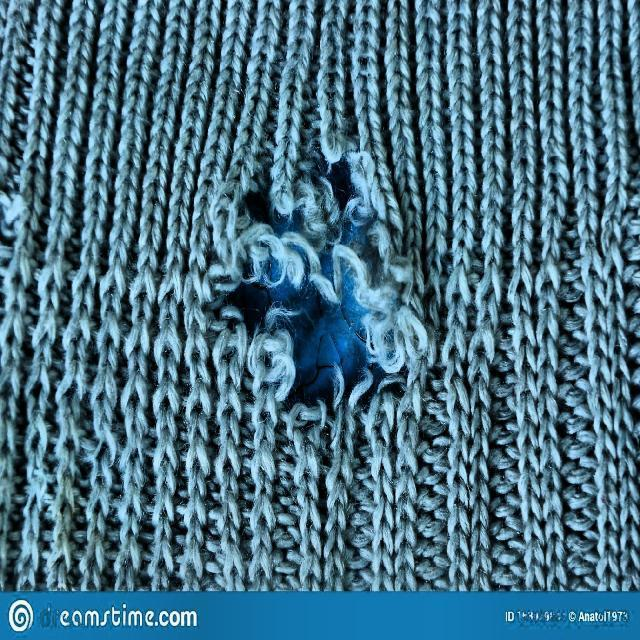cut: (148, 82, 506, 511)
